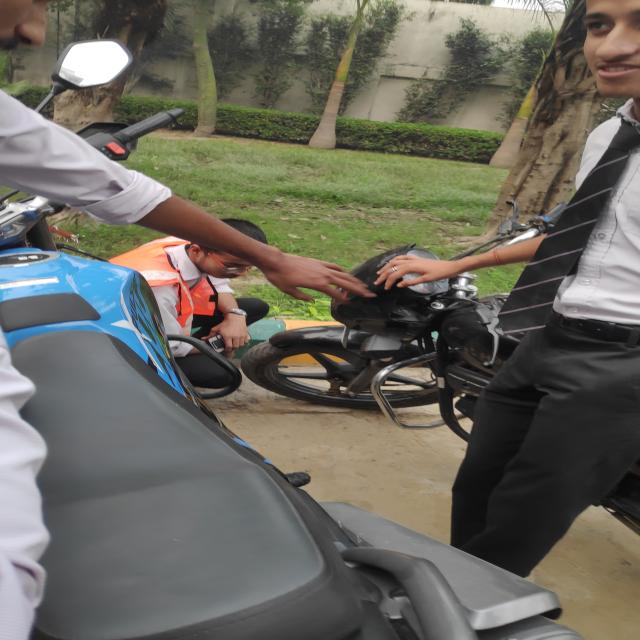unsafe: (376, 0, 640, 640)
